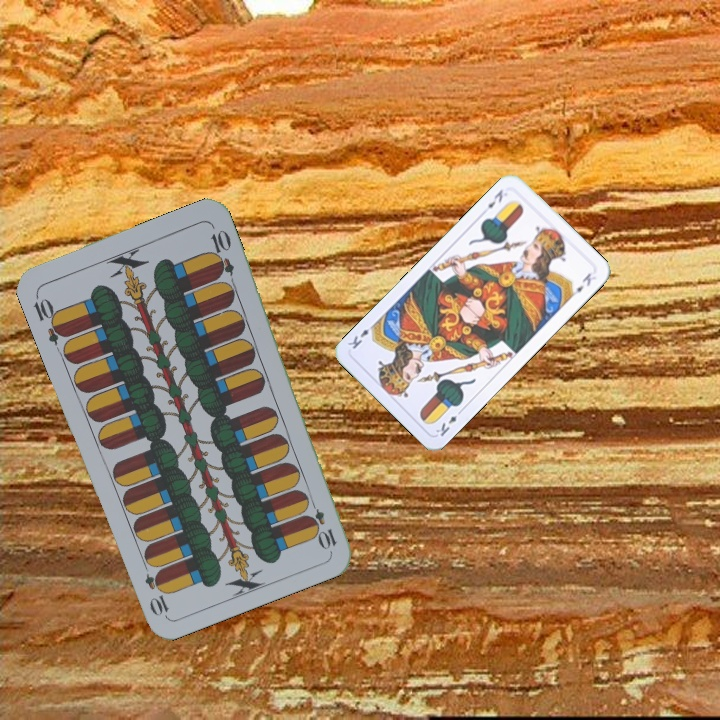E10: (29, 290, 69, 347), (304, 494, 340, 552)
EK: (431, 405, 466, 439), (483, 185, 506, 211)
